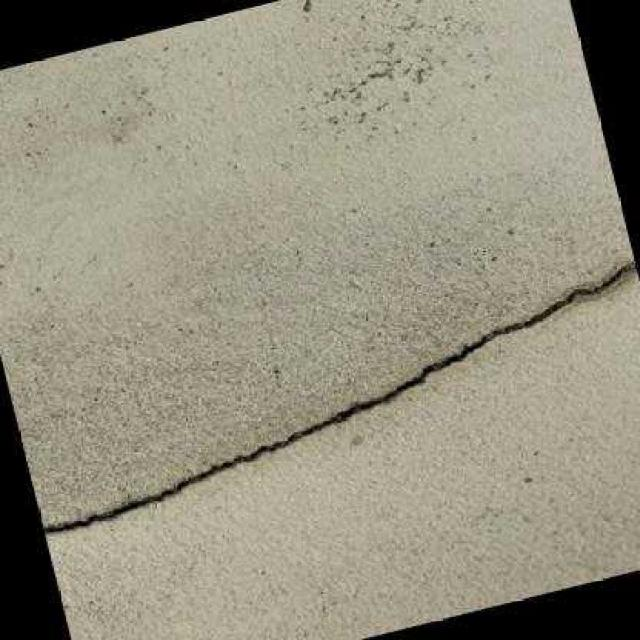D00: (43, 263, 637, 534)
